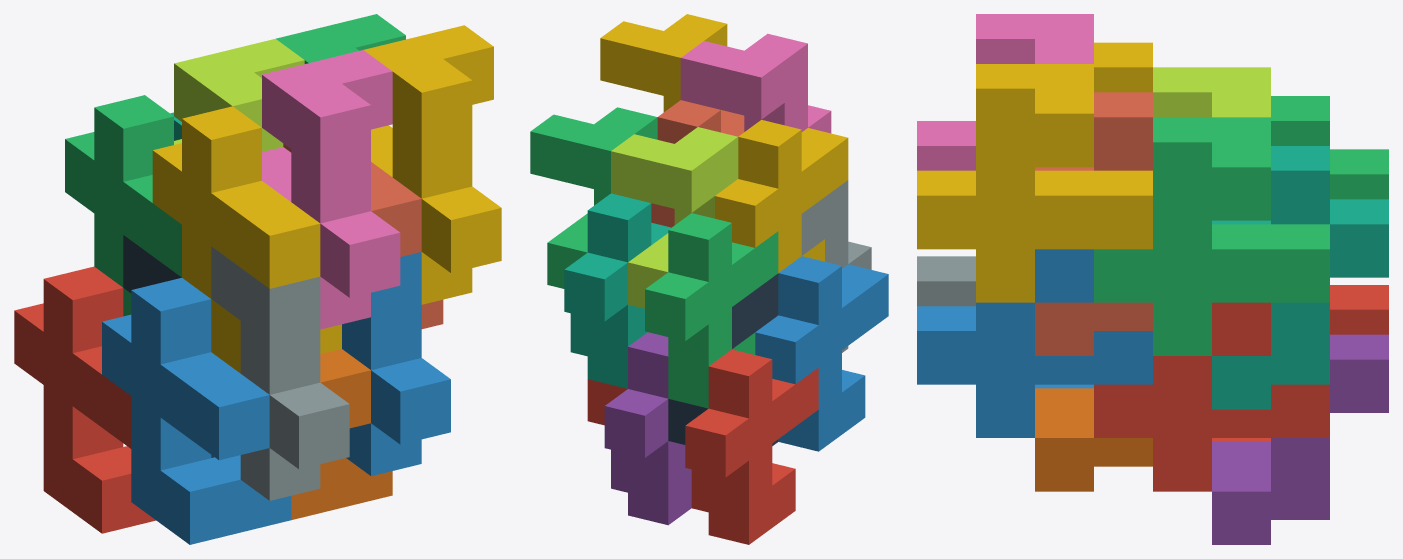
File: tiling.obj
The picture shows the model from 3 angles, left to right: view 1: azimuth 30°, elevation 25°; view 2: azimuth 150°, elevation 25°; view 3: azimuth 270°, elevation 25°; orthographic projection. The views are drawn at different scales.
Visible parts, largest first — view 1: copy_1_domain_2, copy_2_domain_4, copy_2_domain_8, copy_1_domain_4, copy_1_domain_1, copy_2_domain_2, copy_1_domain_3, copy_2_domain_6, copy_2_domain_3, copy_1_domain_6, copy_1_domain_8, copy_2_domain_7 (+1 smaller); view 2: copy_1_domain_1, copy_1_domain_2, copy_1_domain_3, copy_1_domain_4, copy_1_domain_7, copy_1_domain_5, copy_2_domain_3, copy_2_domain_4, copy_2_domain_7, copy_2_domain_8, copy_2_domain_2, copy_2_domain_1 (+2 smaller); view 3: copy_2_domain_8, copy_2_domain_7, copy_2_domain_6, copy_2_domain_5, copy_1_domain_7, copy_1_domain_5, copy_1_domain_8, copy_2_domain_4, copy_1_domain_6, copy_2_domain_3, copy_1_domain_3, copy_1_domain_1 (+2 smaller).
Part boxes in pixels (left/top/right/bottom): copy_1_domain_2: left=102, top=278, right=291, bottom=544; copy_2_domain_4: left=262, top=50, right=400, bottom=329; copy_2_domain_8: left=364, top=25, right=501, bottom=304; copy_1_domain_4: left=152, top=106, right=341, bottom=373; copy_1_domain_1: left=14, top=266, right=155, bottom=533; copy_2_domain_2: left=211, top=246, right=349, bottom=500; copy_1_domain_3: left=65, top=95, right=181, bottom=316; copy_2_domain_6: left=342, top=252, right=450, bottom=476; copy_2_domain_3: left=174, top=38, right=304, bottom=151; copy_1_domain_6: left=291, top=349, right=392, bottom=519; copy_1_domain_8: left=283, top=143, right=443, bottom=328; copy_2_domain_7: left=276, top=14, right=405, bottom=63; copy_1_domain_1: left=685, top=349, right=818, bottom=544; copy_1_domain_2: left=755, top=256, right=888, bottom=451; copy_1_domain_3: left=645, top=213, right=778, bottom=408; copy_1_domain_4: left=715, top=120, right=848, bottom=272; copy_1_domain_7: left=564, top=193, right=670, bottom=388; copy_1_domain_5: left=604, top=332, right=691, bottom=525; copy_2_domain_3: left=611, top=127, right=738, bottom=308; copy_2_domain_4: left=680, top=33, right=831, bottom=133; copy_2_domain_7: left=530, top=107, right=657, bottom=288; copy_2_domain_8: left=600, top=14, right=727, bottom=112; copy_2_domain_2: left=801, top=180, right=871, bottom=352; copy_2_domain_1: left=668, top=273, right=778, bottom=445; copy_2_domain_8: left=917, top=64, right=1152, bottom=302; copy_2_domain_7: left=1094, top=117, right=1329, bottom=355; copy_2_domain_6: left=917, top=249, right=1152, bottom=437; copy_2_domain_5: left=1094, top=302, right=1329, bottom=491; copy_1_domain_7: left=1212, top=146, right=1388, bottom=409; copy_1_domain_5: left=1212, top=334, right=1388, bottom=544; copy_1_domain_8: left=1035, top=92, right=1152, bottom=355; copy_2_domain_4: left=917, top=14, right=1093, bottom=170; copy_1_domain_6: left=1035, top=388, right=1152, bottom=491; copy_2_domain_3: left=1153, top=67, right=1270, bottom=117; copy_1_domain_3: left=1271, top=96, right=1388, bottom=199; copy_1_domain_1: left=1212, top=285, right=1388, bottom=441.
Bounding box in the file's own units: 6 × 9 × 8.
